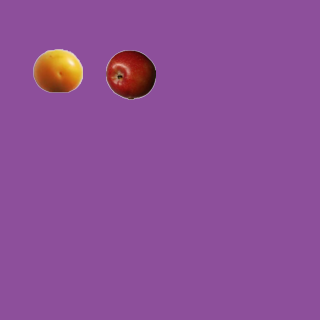Apple Braeburn: (105, 49, 155, 99)
Cherry Wax Yellow: (32, 45, 82, 95)
